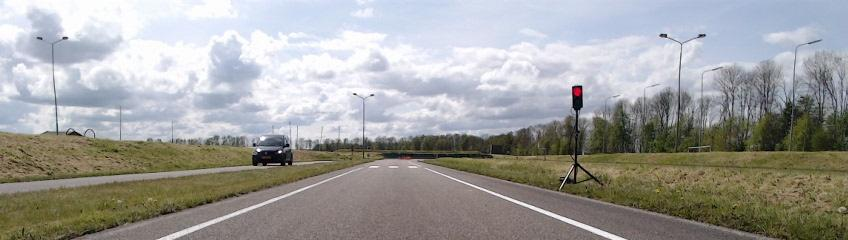TrafficLight-red: (572, 86, 582, 110)
